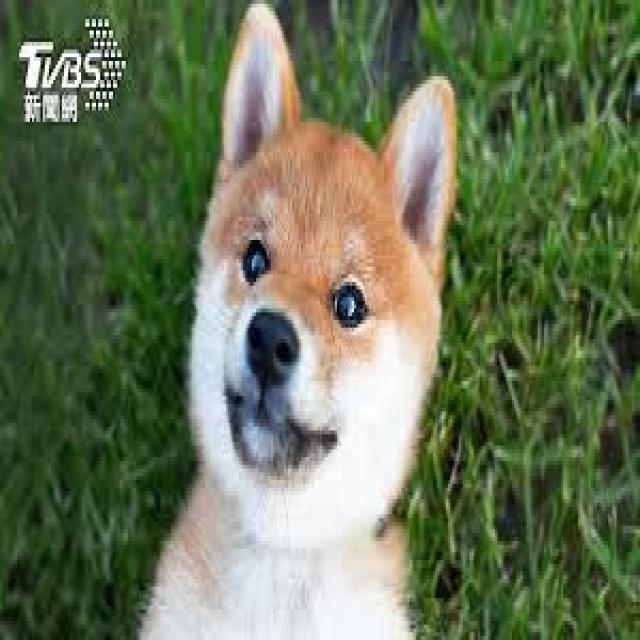dog: (136, 1, 458, 640)
